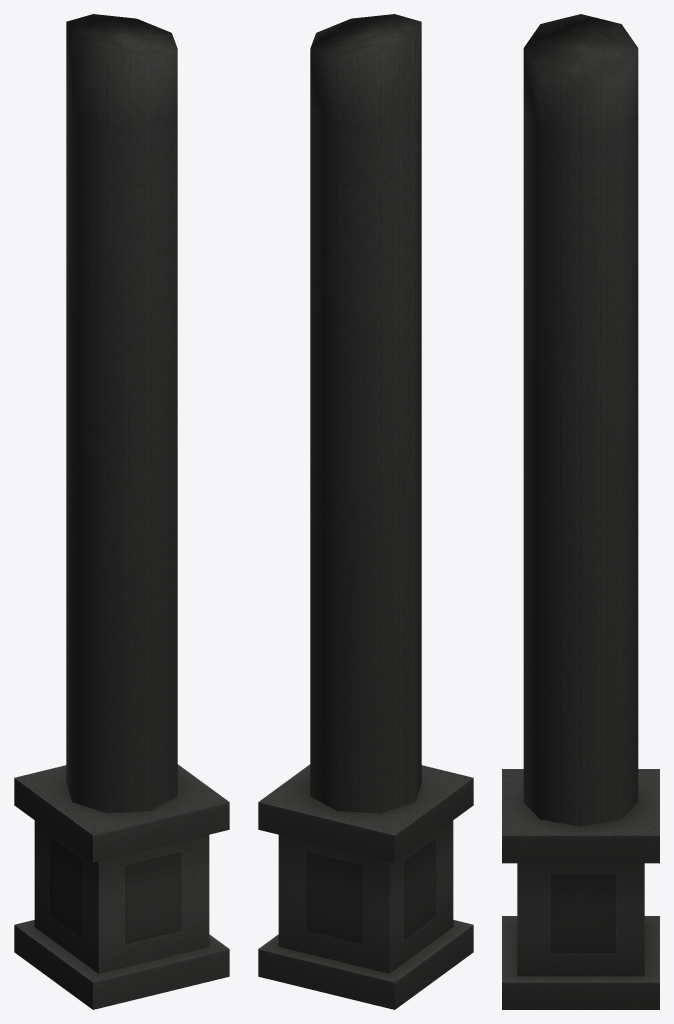
Rendered from hasira3.fbx.
3 views of the same model, side by side, from view 1: azimuth 30°, elevation 25°; view 2: azimuth 150°, elevation 25°; view 3: azimuth 270°, elevation 25° (orthographic).
Visible parts, largest first — view 1: hasira3; view 2: hasira3; view 3: hasira3.
Boxes of the visible parts, x1,y1,x2,y2 form: hasira3: (14, 14, 229, 1009); hasira3: (258, 14, 473, 1009); hasira3: (502, 14, 659, 1009).
Bounding box in the file's own units: 2.25 × 14.78 × 2.25.
1 material, 1 textured.
